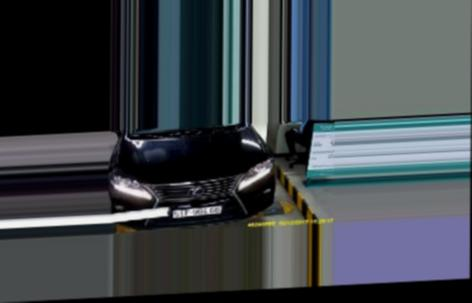License_Plate: (172, 204, 223, 221)
